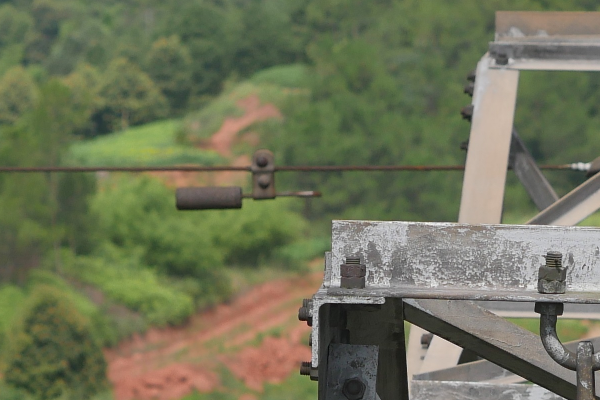damper_defect: (171, 147, 327, 214)
